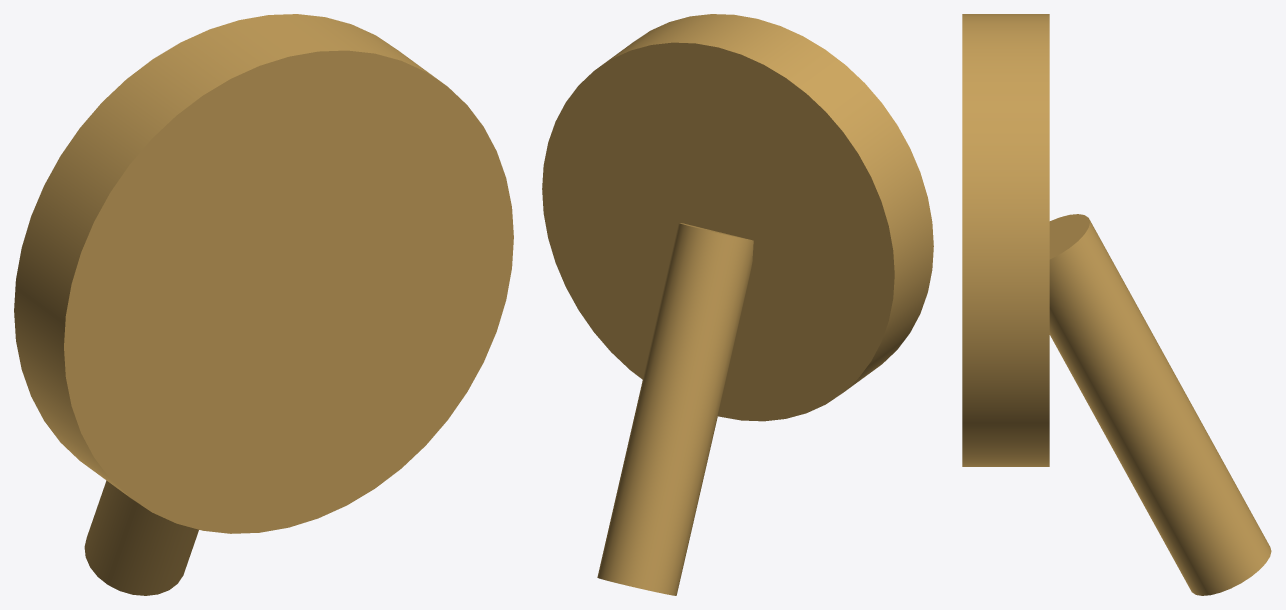
The model's file is selkey.glb.
3 views of the same model, side by side, from view 1: azimuth 30°, elevation 25°; view 2: azimuth 150°, elevation 25°; view 3: azimuth 270°, elevation 25° (orthographic). The views are drawn at different scales.
Visible parts, largest first — view 1: selkey; view 2: selkey; view 3: selkey.
Part boxes in pixels (<box>): selkey: <box>14,14,513,595</box>; selkey: <box>542,14,933,595</box>; selkey: <box>962,14,1271,595</box>.
Size of the model in its own units: 0.05 by 0.0672 by 0.0341.
